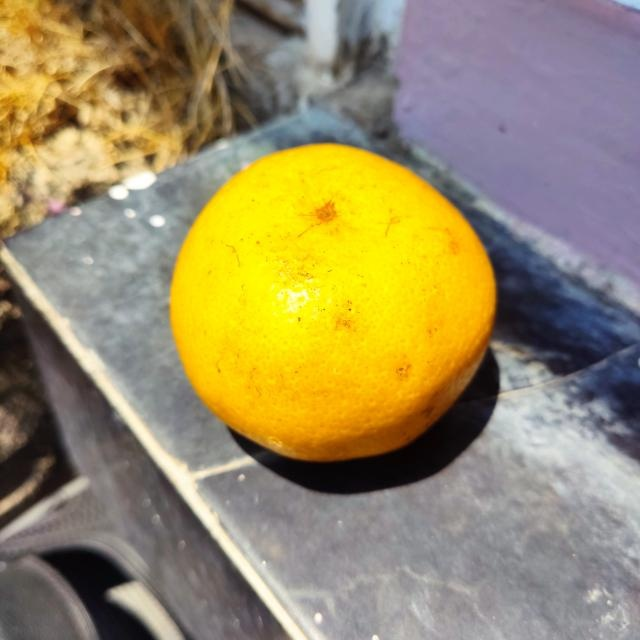agrume: (165, 140, 497, 460)
